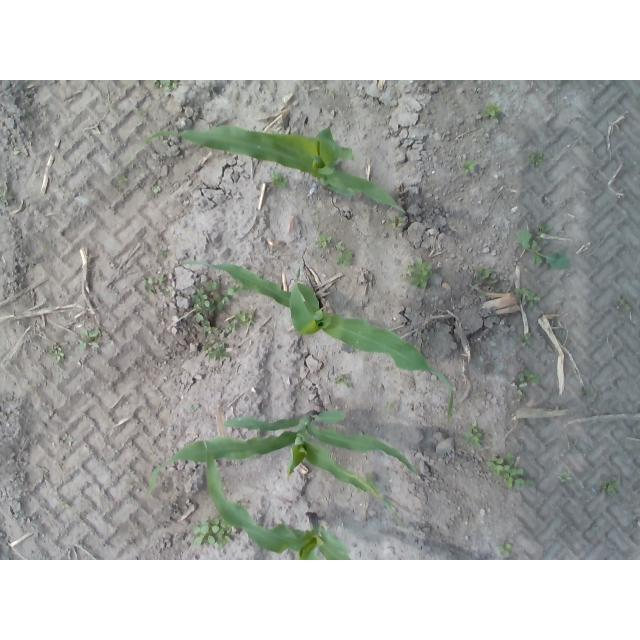Maize: (176, 258, 457, 422), (146, 408, 419, 528), (126, 123, 407, 214), (202, 440, 355, 561)
Weeds: (514, 225, 569, 271), (486, 452, 534, 490), (191, 281, 229, 324), (194, 516, 235, 548), (401, 258, 434, 290), (224, 311, 256, 335), (463, 420, 485, 449), (514, 288, 541, 309), (201, 340, 228, 361), (481, 100, 502, 124), (79, 329, 100, 351), (335, 242, 354, 266), (516, 369, 541, 387), (476, 267, 501, 285), (141, 274, 163, 294), (270, 169, 290, 191), (601, 477, 620, 497), (356, 474, 374, 495), (529, 149, 548, 167), (334, 372, 354, 389), (496, 539, 512, 559), (47, 345, 65, 361), (152, 81, 178, 92), (616, 294, 632, 311), (202, 324, 222, 337), (316, 232, 332, 248), (462, 159, 479, 174), (1, 181, 12, 203), (518, 334, 535, 346), (557, 470, 572, 483), (228, 285, 245, 296), (232, 498, 247, 510), (390, 216, 405, 227), (116, 175, 128, 185), (152, 184, 163, 194), (188, 404, 200, 412), (518, 390, 527, 398), (137, 110, 148, 116)
